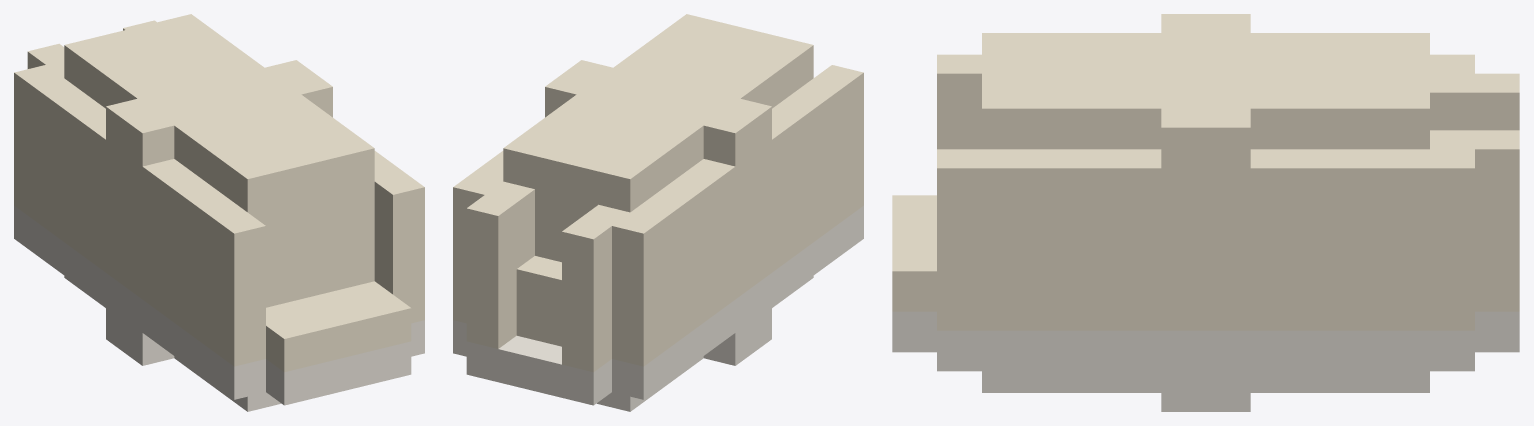
File: arctic_fox__body.glb
3 views of the same model, side by side, from view 1: azimuth 30°, elevation 25°; view 2: azimuth 150°, elevation 25°; view 3: azimuth 270°, elevation 25° (orthographic). The views are drawn at different scales.
Parts seen in each view (by area): view 1: arctic_fox__body; view 2: arctic_fox__body; view 3: arctic_fox__body.
Part boxes in pixels (left/top/right/bottom): arctic_fox__body: left=14, top=14, right=424, bottom=411; arctic_fox__body: left=453, top=14, right=863, bottom=411; arctic_fox__body: left=892, top=14, right=1519, bottom=411.
Bounding box in the file's own units: 0.6 × 0.7 × 1.4.
Materials: 1 (1 with a texture image).
